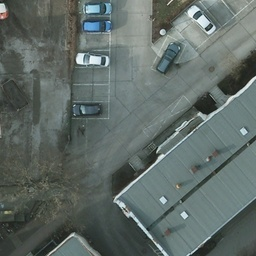car: (187, 4, 216, 36), (156, 44, 182, 73), (75, 51, 110, 69), (71, 102, 102, 117), (82, 19, 112, 33), (82, 2, 112, 16)
